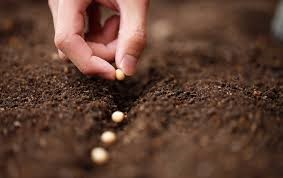dirt: (143, 34, 278, 170), (2, 64, 92, 173), (93, 80, 142, 107)
